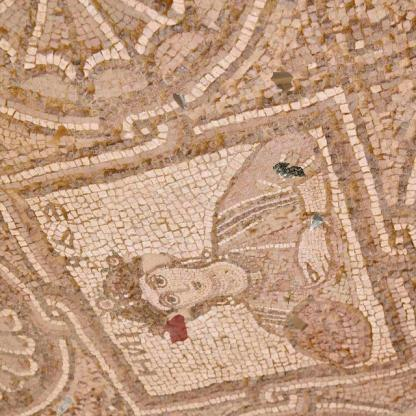dirty: (271, 160, 308, 180), (268, 69, 296, 93), (284, 312, 311, 333), (308, 210, 327, 234), (56, 394, 76, 416), (170, 90, 190, 110)
liquid: (164, 314, 189, 344), (46, 124, 70, 155)
